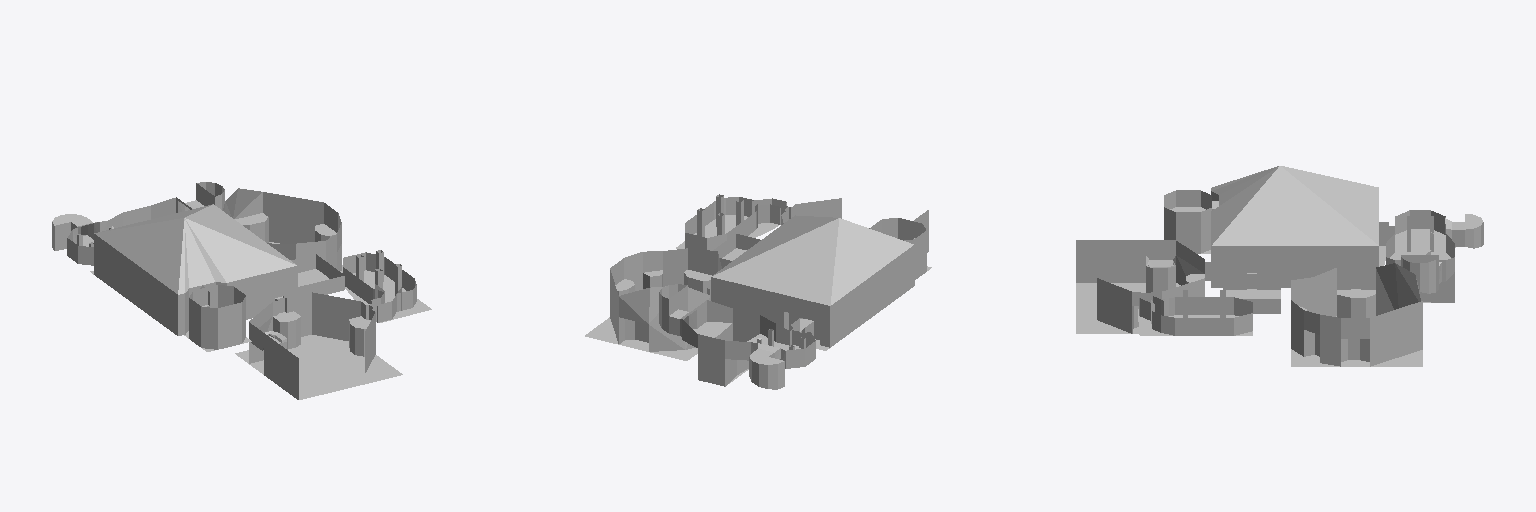
File: CorrhaidmapCol.obj
3 renders of one model, left to right at view 1: azimuth 30°, elevation 25°; view 2: azimuth 150°, elevation 25°; view 3: azimuth 270°, elevation 25°, orthographic.
Visible parts, largest first — view 1: Floor4#Collision, Floor4#Collision#Void, Floor4#Collision#Grass; view 2: Floor4#Collision, Floor4#Collision#Grass, Floor4#Collision#Void; view 3: Floor4#Collision, Floor4#Collision#Void, Floor4#Collision#Grass.
Part boxes in pixels (bbox=[...]): Floor4#Collision: bbox=[52, 182, 416, 399]; Floor4#Collision#Void: bbox=[235, 242, 402, 399]; Floor4#Collision#Grass: bbox=[83, 213, 431, 351]; Floor4#Collision: bbox=[610, 194, 928, 389]; Floor4#Collision#Grass: bbox=[615, 215, 931, 350]; Floor4#Collision#Void: bbox=[585, 317, 748, 383]; Floor4#Collision: bbox=[1076, 166, 1483, 366]; Floor4#Collision#Void: bbox=[1076, 283, 1430, 366]; Floor4#Collision#Grass: bbox=[1138, 229, 1450, 335].
Bounding box in the file's own units: 1611 × 758 × 2514.